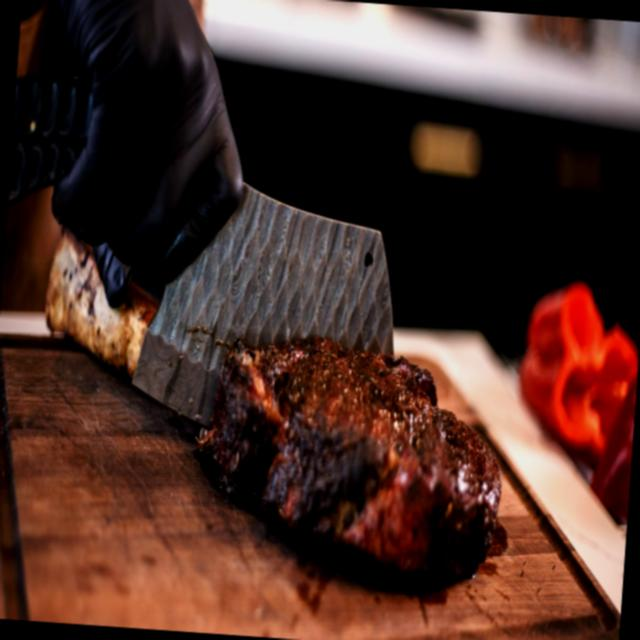cleaver: (0, 0, 444, 452)
